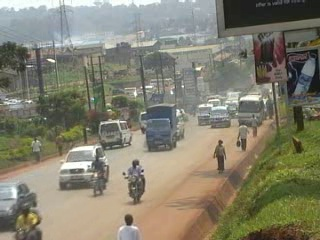Car: (56, 141, 111, 192), (0, 177, 38, 230)
Motorcycle: (122, 169, 146, 204), (91, 173, 104, 197), (16, 229, 32, 239)
